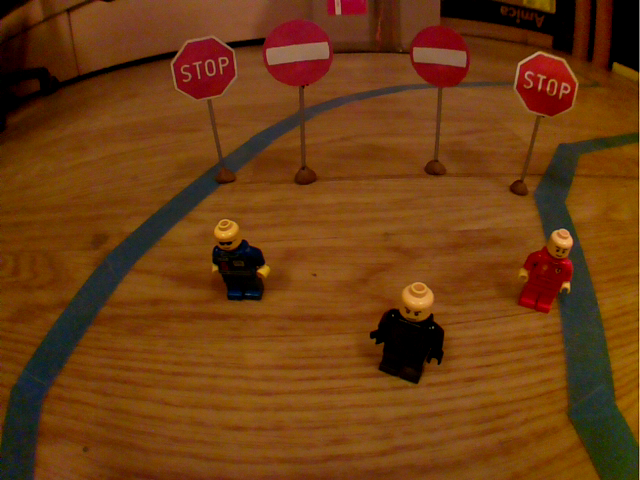Postac LEGO: (364, 274, 448, 398), (204, 217, 276, 306), (511, 221, 576, 317)
Stop: (511, 45, 584, 122), (166, 33, 240, 105)
Zakaz: (260, 14, 338, 90), (406, 22, 474, 92)
